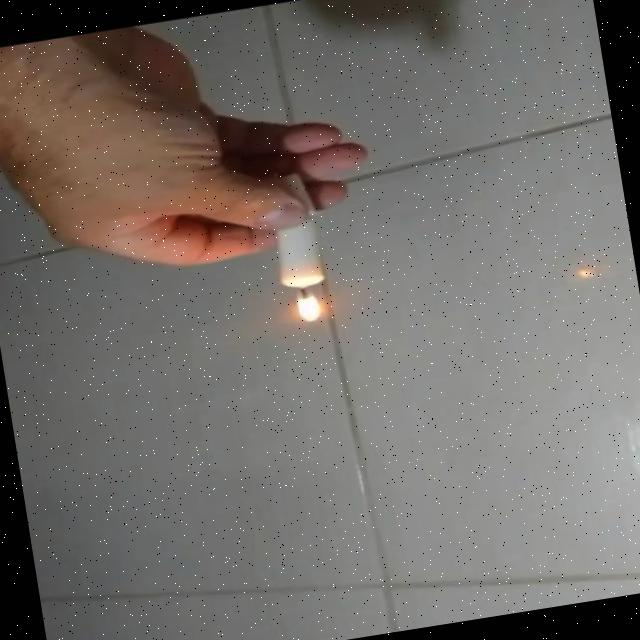fire: (287, 284, 333, 328)
